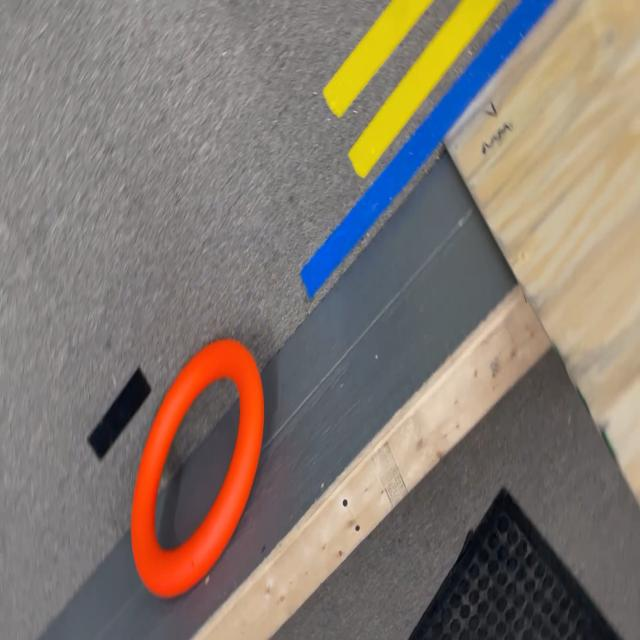note: (131, 339, 264, 600)
